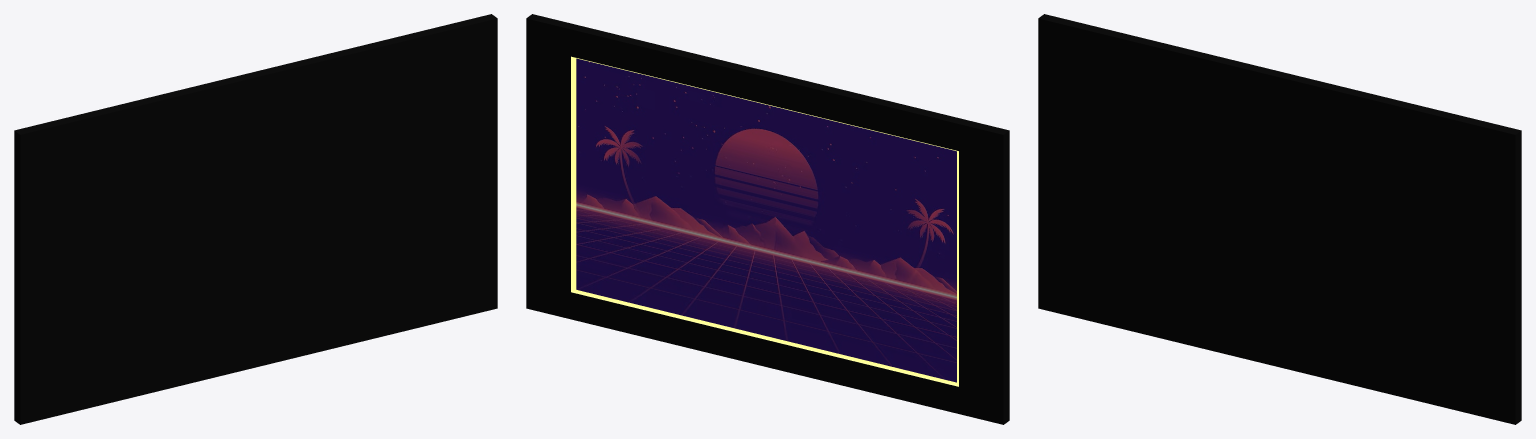
Rendered from poster3.fbx.
3 renders of one model, left to right at view 1: azimuth 30°, elevation 25°; view 2: azimuth 150°, elevation 25°; view 3: azimuth 330°, elevation 25°, orthographic.
Parts seen in each view (by area): view 1: Plane.002; view 2: Plane.002; view 3: Plane.002.
Boxes of the visible parts, x1,y1,x2,y2 form: Plane.002: (14,14,497,424); Plane.002: (526,14,1009,424); Plane.002: (1038,14,1521,424).
Size of the model in its own units: 1359 by 789 by 30.03.
